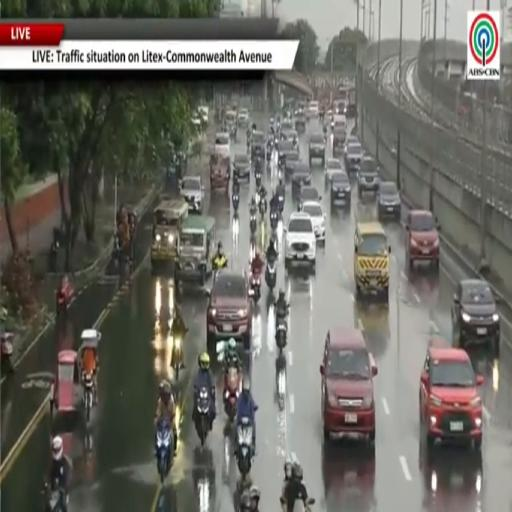car: (420, 343, 483, 450), (321, 327, 377, 445), (420, 444, 483, 510), (452, 279, 500, 357), (207, 269, 251, 353), (354, 222, 391, 302), (405, 210, 440, 269), (285, 213, 316, 270), (301, 201, 326, 242), (358, 156, 380, 199), (377, 182, 401, 220), (180, 176, 203, 214), (331, 171, 351, 207), (292, 162, 311, 198), (299, 185, 321, 210), (309, 134, 326, 166), (345, 142, 363, 172), (233, 154, 251, 182), (278, 140, 296, 168), (325, 158, 343, 182), (280, 131, 299, 152), (252, 131, 266, 159), (284, 151, 299, 177), (225, 110, 237, 139), (333, 128, 345, 157), (215, 133, 230, 156), (345, 135, 360, 152), (295, 111, 306, 133), (198, 105, 209, 124), (238, 108, 249, 126), (280, 120, 294, 134), (192, 112, 201, 132), (346, 103, 357, 118), (307, 102, 318, 117)
jeepney: (175, 216, 215, 285), (151, 199, 188, 269), (210, 153, 230, 193)
motorcycle: (156, 422, 174, 484), (237, 418, 253, 481), (224, 366, 241, 423), (195, 388, 211, 446), (44, 483, 68, 511), (83, 373, 95, 423), (0, 332, 14, 374), (171, 335, 184, 380), (56, 284, 72, 317), (276, 317, 287, 354), (111, 232, 121, 270), (265, 260, 276, 292), (292, 498, 315, 511), (251, 275, 260, 302), (270, 209, 279, 230), (232, 193, 240, 212), (259, 197, 266, 218), (250, 214, 257, 235), (278, 194, 284, 215), (266, 143, 272, 162), (255, 169, 261, 187), (255, 188, 260, 206), (274, 136, 279, 150)
